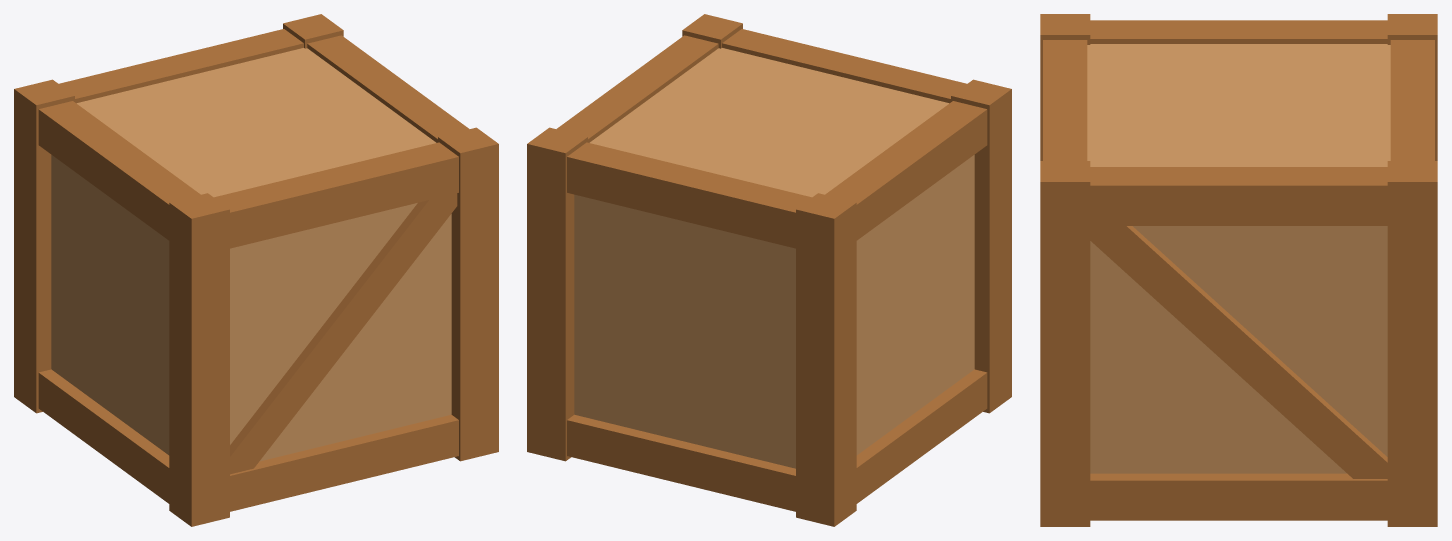
Rendered from Crate.fbx.
3 views of the same model, side by side, from view 1: azimuth 30°, elevation 25°; view 2: azimuth 150°, elevation 25°; view 3: azimuth 270°, elevation 25° (orthographic). The views are drawn at different scales.
Visible parts, largest first — view 1: Crate; view 2: Crate; view 3: Crate.
Boxes of the visible parts, left/top/right/bottom form: Crate: left=14, top=14, right=498, bottom=526; Crate: left=527, top=14, right=1011, bottom=526; Crate: left=1040, top=14, right=1437, bottom=526.
Size of the model in its own units: 3.23 by 3.09 by 3.23.
Materials: 1 (1 with a texture image).
